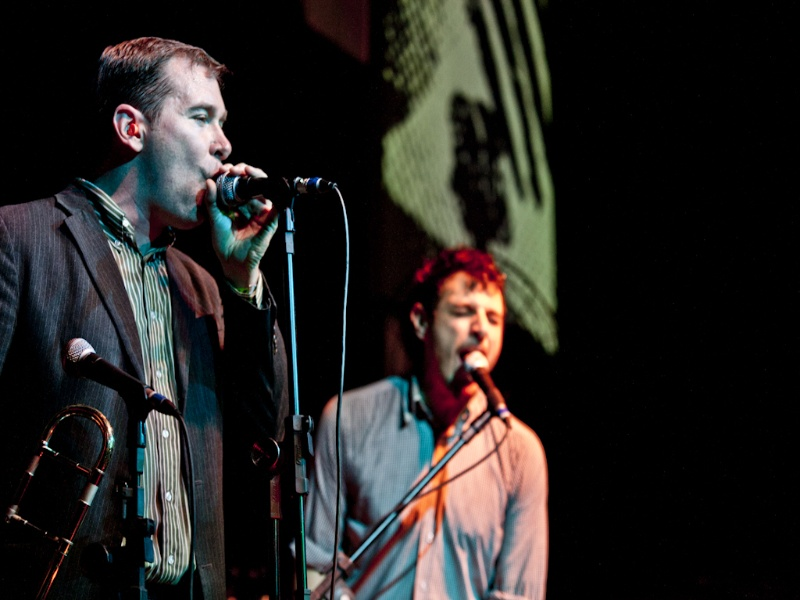person: (12, 27, 293, 600), (318, 238, 546, 598)
